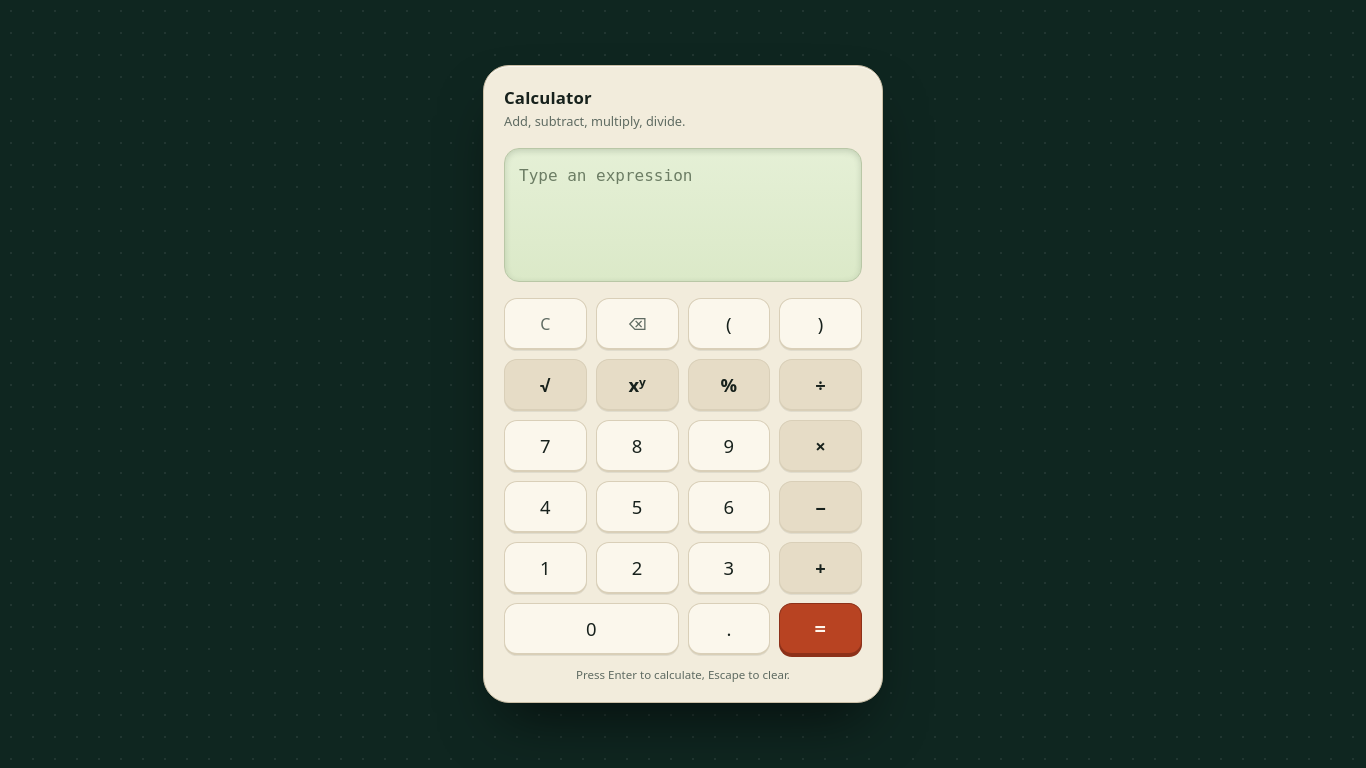
Test: Calculator › evaluates a square root from the keypad
The image size is (1366, 768).
Click the button named "Square root". click: (545, 385)
box: 504,359 -> 587,411
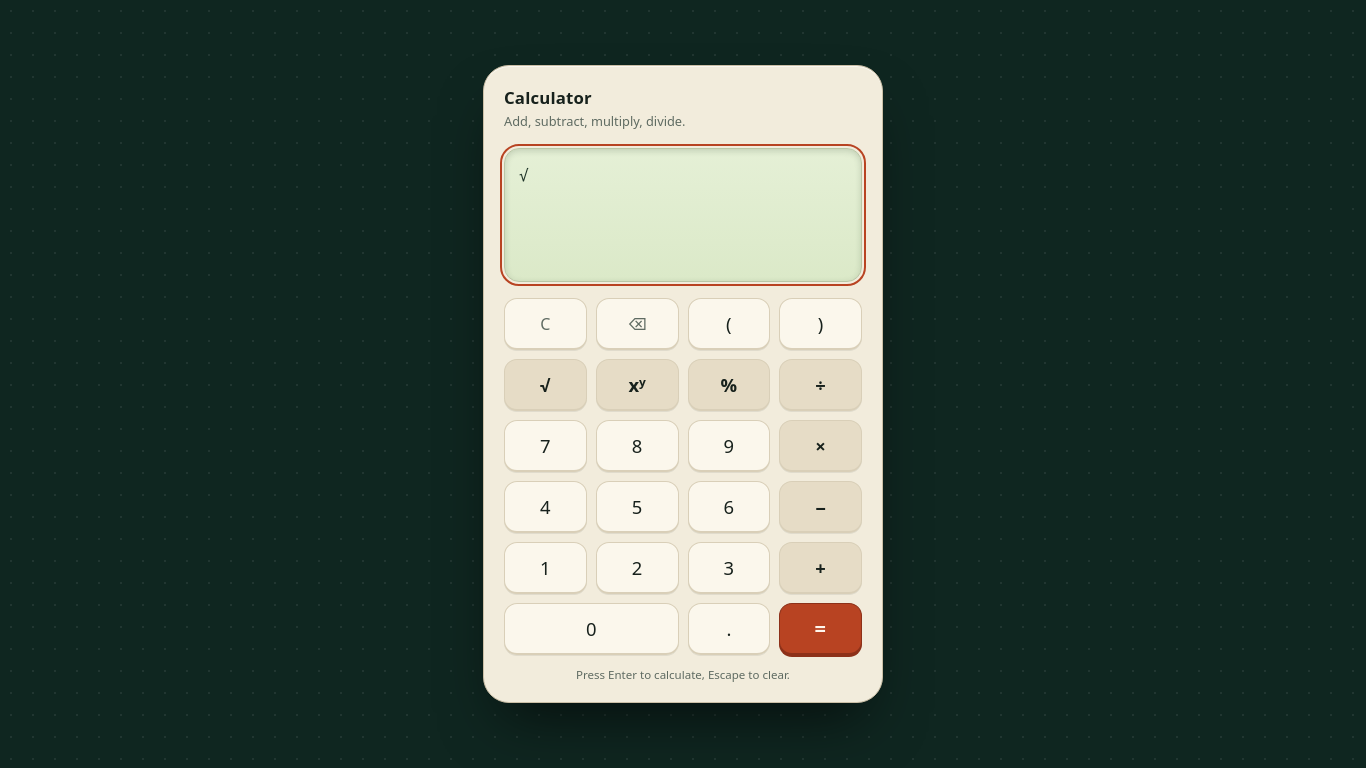
Click the button "8". click: (637, 446)
box: 596,420 -> 679,472
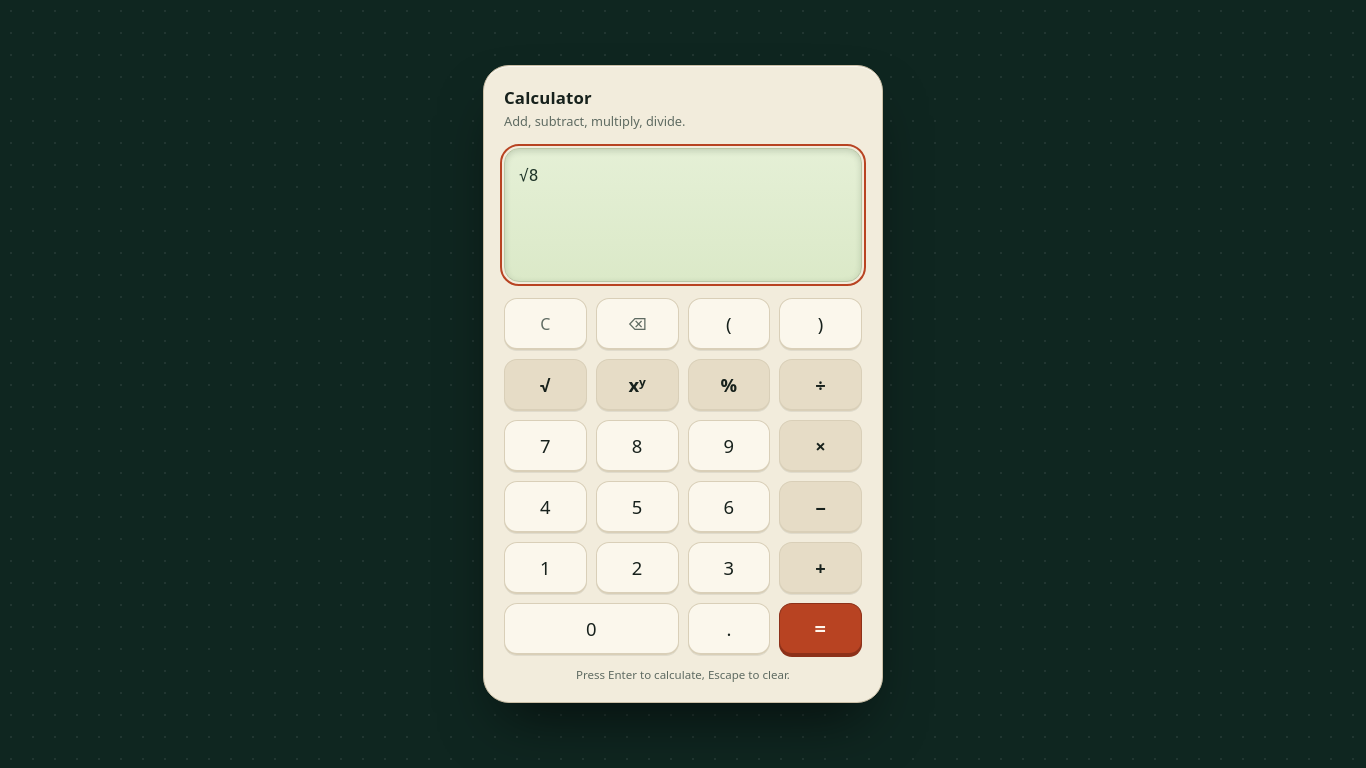
Click the button "1". click: (545, 568)
box: 504,542 -> 587,594
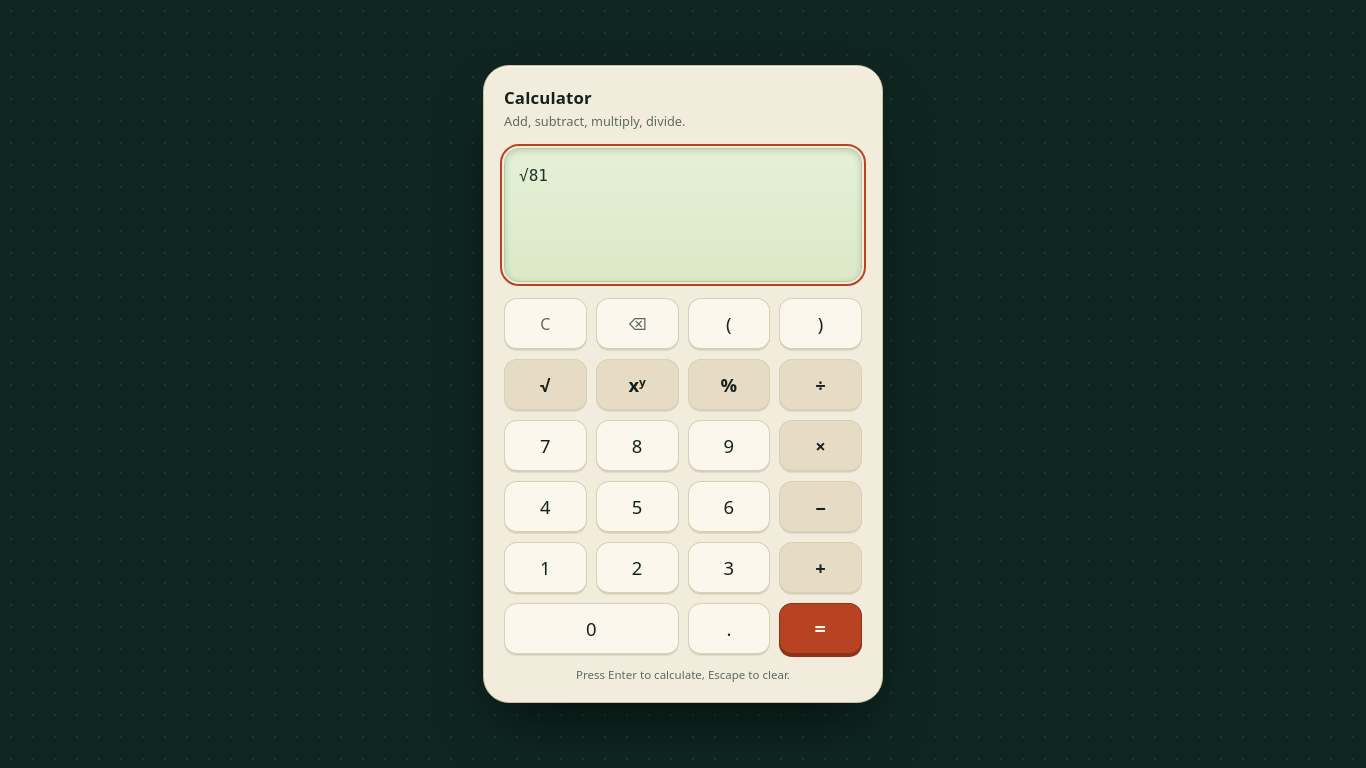
Click the button named "Equals". click: (821, 629)
box: 779,603 -> 862,655
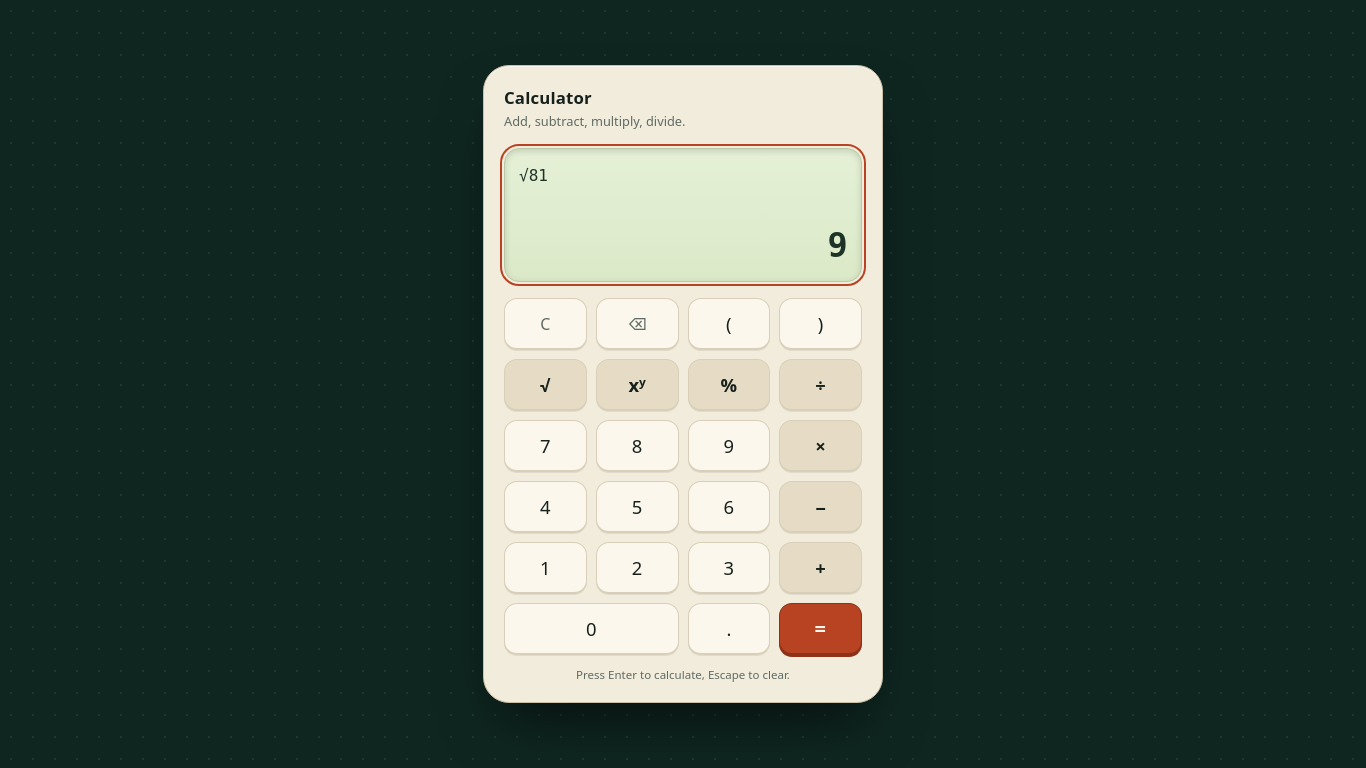
Now the field named "expression" holds "√81", box 519,163 -> 847,189
Now the message named "Result" reads "9", box 828,226 -> 847,265
